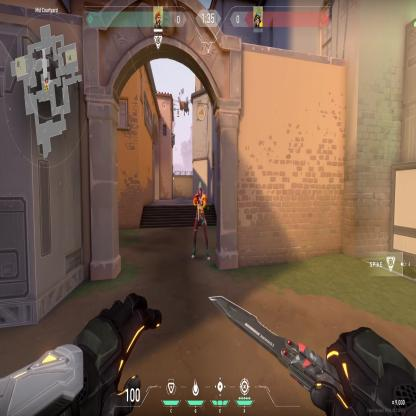enemy: (191, 181, 210, 261)
